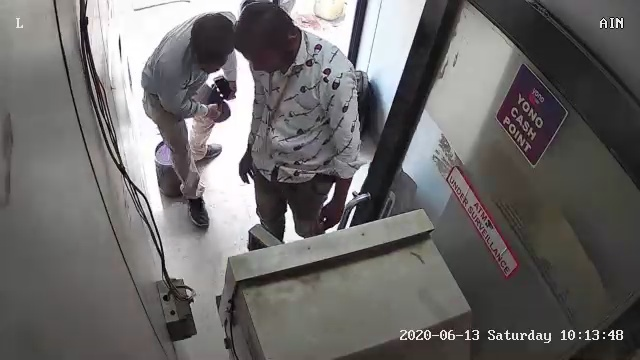open: (314, 97, 636, 352)
